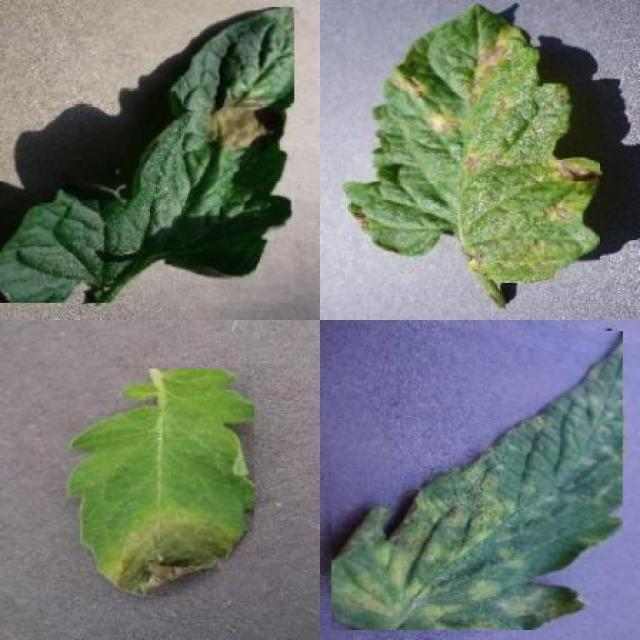Late Blight: (0, 7, 294, 302), (69, 369, 254, 597)
Leaf Mold: (332, 330, 624, 630)
Septoria: (346, 3, 600, 283)
